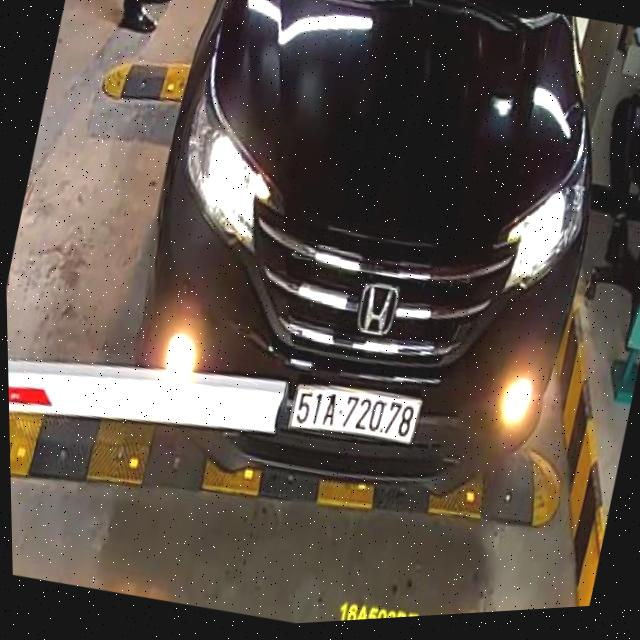car: (95, 0, 640, 554)
plate: (287, 374, 428, 456)
